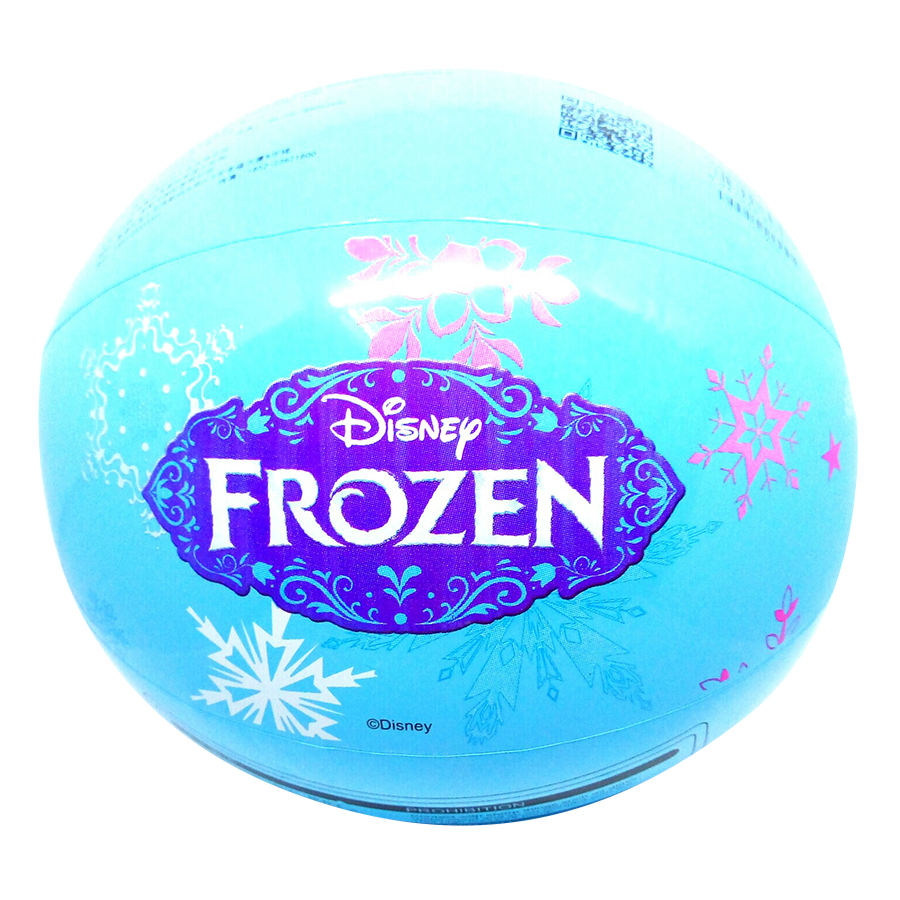Disney: (310, 382, 493, 467)
